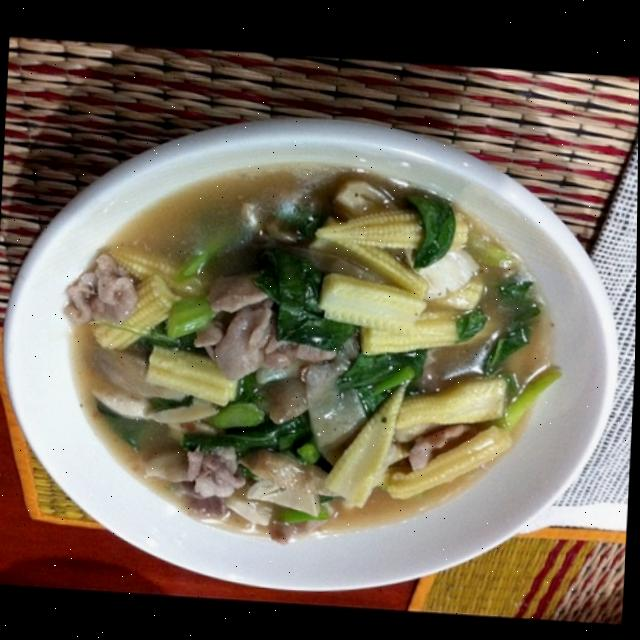面条主食: (73, 155, 557, 559)
